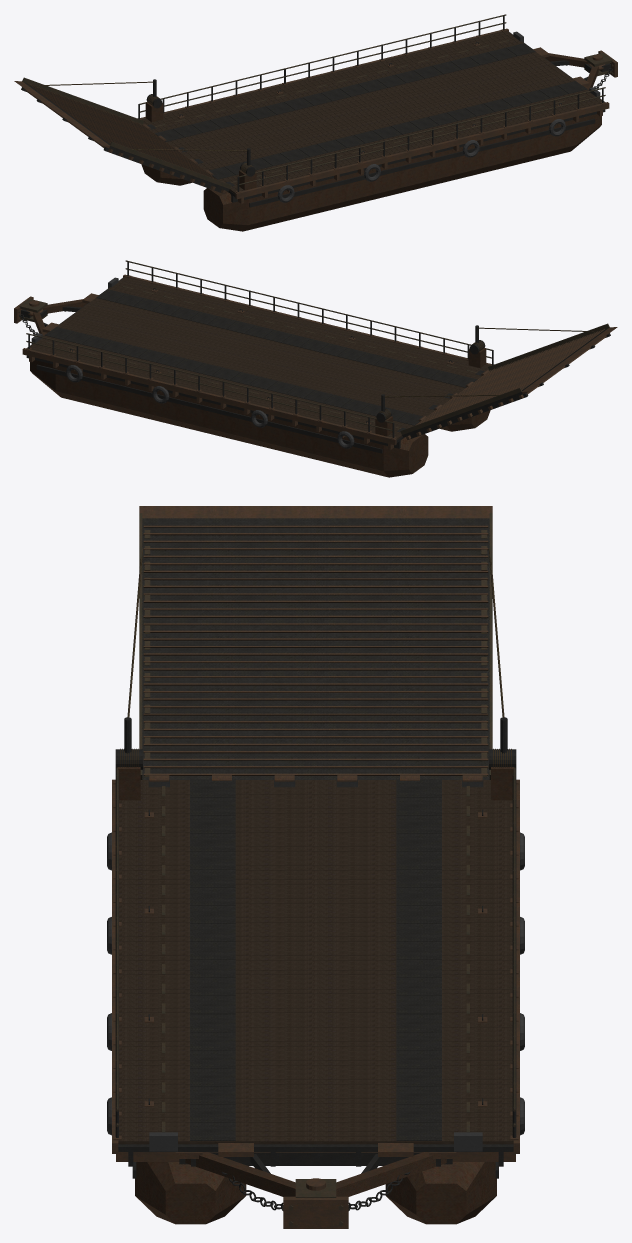
The model's file is truck-carrier.glb.
The picture shows the model from 3 angles, top to bottom: view 1: azimuth 30°, elevation 25°; view 2: azimuth 150°, elevation 25°; view 3: azimuth 270°, elevation 25°; orthographic projection. The views are drawn at different scales.
Visible parts, largest first — view 1: TruckBarge_HullAndDeck, Trailer_LoadingRamp_Mesh, Hitch_TrailerDrawbar, Hitch_FixedReceiver; view 2: TruckBarge_HullAndDeck, Trailer_LoadingRamp_Mesh, Hitch_TrailerDrawbar, Hitch_FixedReceiver; view 3: TruckBarge_HullAndDeck, Trailer_LoadingRamp_Mesh, Hitch_TrailerDrawbar, Hitch_FixedReceiver.
Boxes of the visible parts, <box> form: TruckBarge_HullAndDeck: <box>137,14,609,231</box>; Trailer_LoadingRamp_Mesh: <box>14,77,231,193</box>; Hitch_TrailerDrawbar: <box>513,31,612,98</box>; Hitch_FixedReceiver: <box>584,50,617,77</box>; TruckBarge_HullAndDeck: <box>22,260,494,477</box>; Trailer_LoadingRamp_Mesh: <box>400,323,617,439</box>; Hitch_TrailerDrawbar: <box>19,277,118,344</box>; Hitch_FixedReceiver: <box>14,296,47,323</box>; TruckBarge_HullAndDeck: <box>107,717,524,1224</box>; Trailer_LoadingRamp_Mesh: <box>139,506,492,779</box>; Hitch_TrailerDrawbar: <box>149,1132,482,1210</box>; Hitch_FixedReceiver: <box>283,1178,348,1228</box>.
Size of the model in its own units: 44.79 by 9.73 by 14.68.
Materials: 8 (8 with a texture image).
